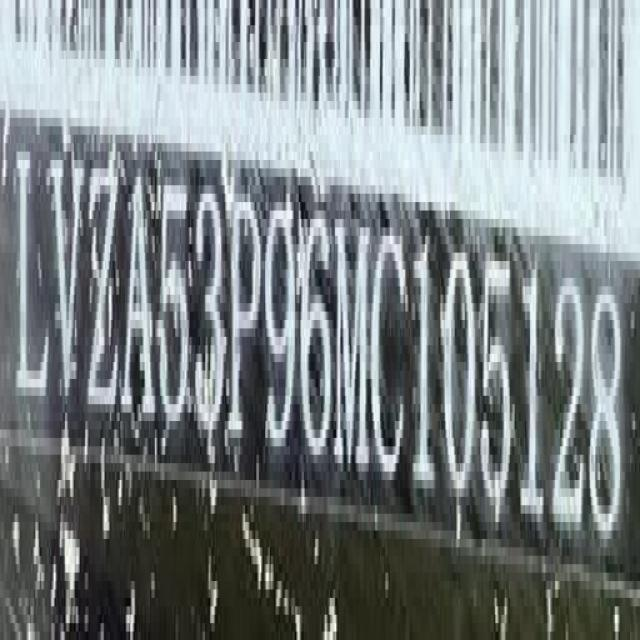0: (443, 218, 477, 508)
1: (516, 234, 546, 530), (409, 209, 436, 499)
2: (553, 259, 584, 536)
3: (194, 168, 225, 452)
5: (481, 228, 514, 514), (160, 162, 188, 456)
6: (299, 187, 332, 477)
8: (590, 278, 620, 540)
9: (266, 187, 296, 462)
A: (122, 147, 159, 430)
C: (371, 209, 406, 496)
L: (16, 125, 51, 421)
M: (333, 203, 368, 474)
P: (230, 172, 261, 462)
V: (52, 137, 82, 434)
Z: (86, 140, 120, 428)
